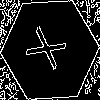X: (25, 25, 75, 76)
